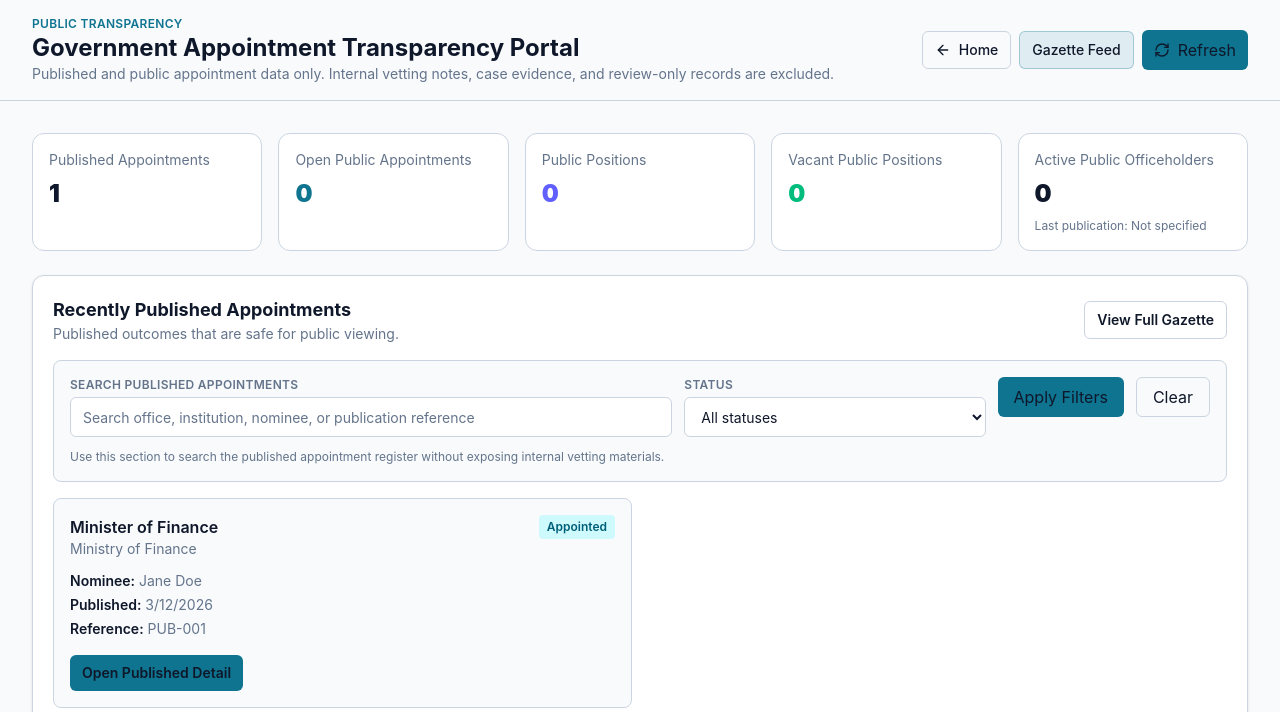
it: PublicTransparencyPage › applies published appointment filters through the public search controls
Expected: the heading "Minister of Finance" is shown, [70,515,218,539]
Replace the text in the field labelled "Search published appointments" with "finance" at (371, 417), box [70,397,672,437]
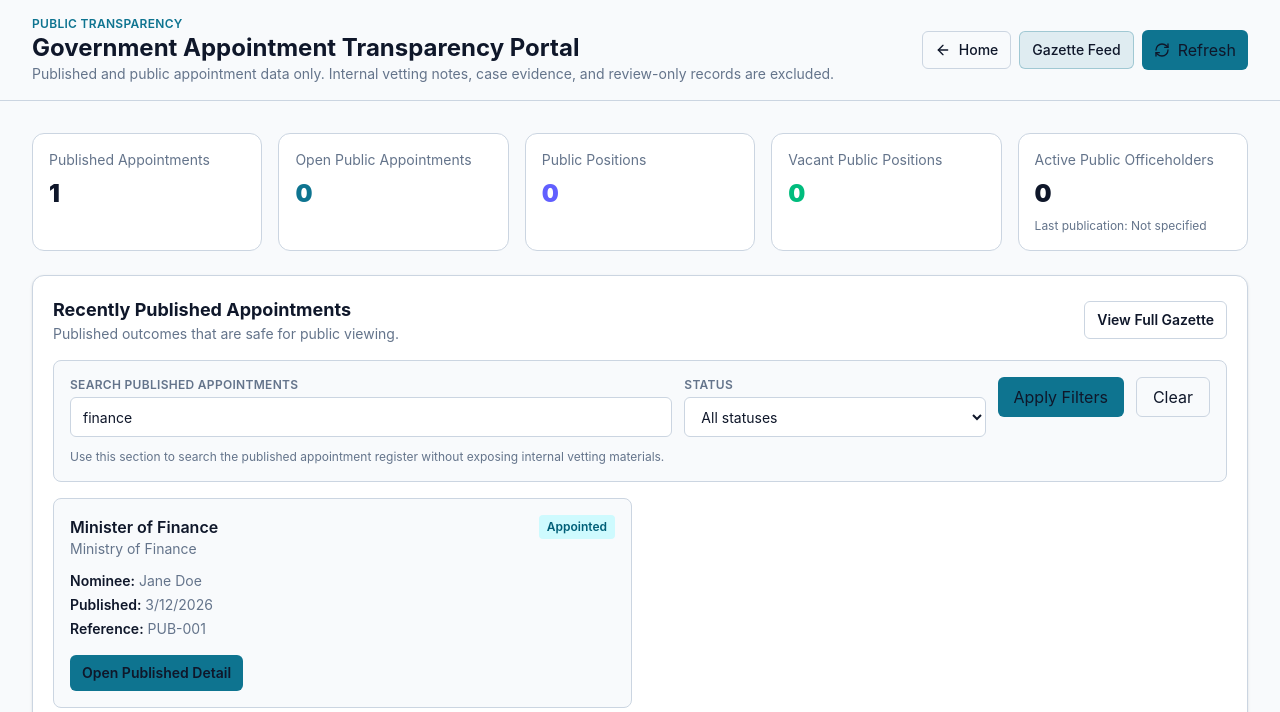
Select "Appointed" in the dropdown labelled "Status" at (835, 417), box [684,397,986,437]
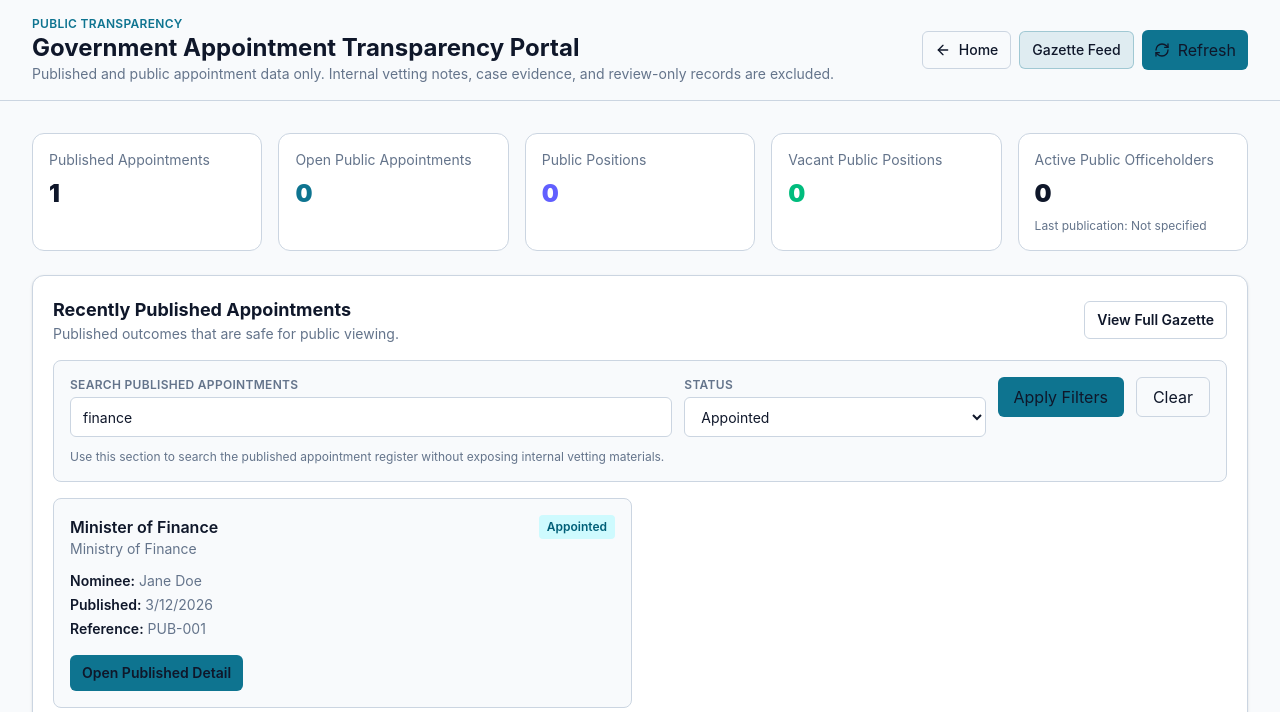
Click the button "Apply Filters" at (1061, 397), box [998,377,1124,417]
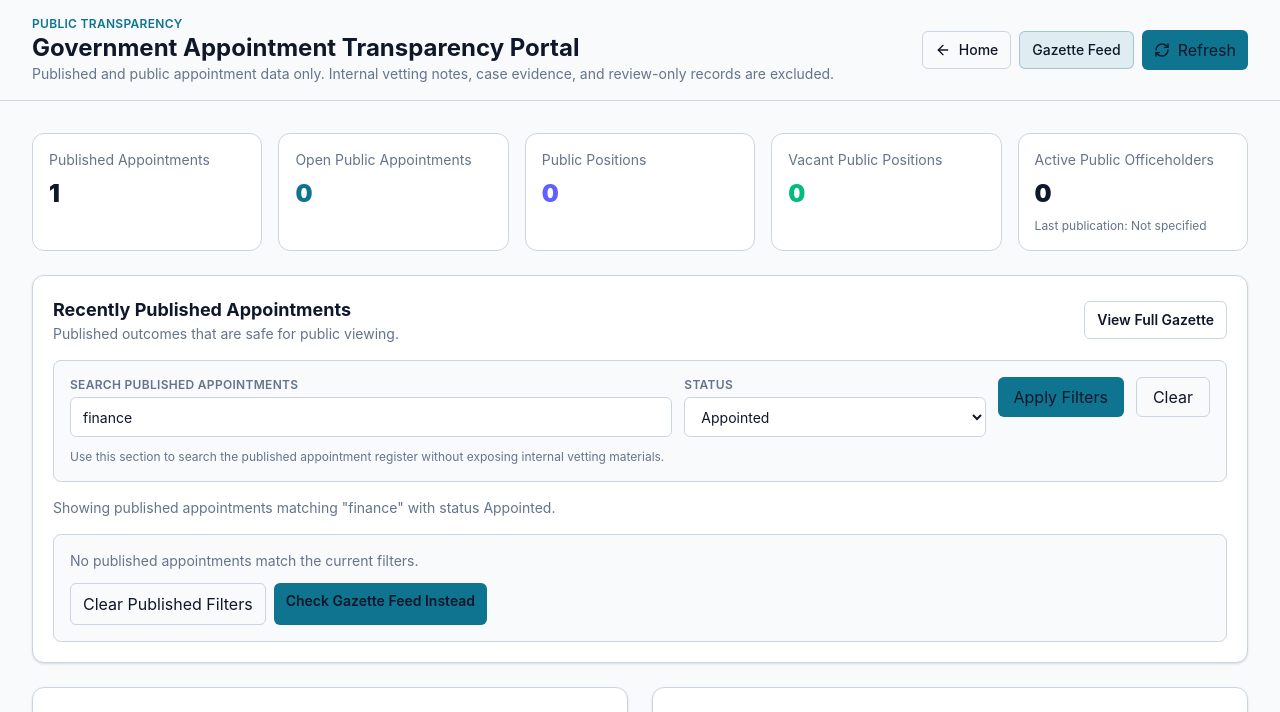
Expected: the text "Showing published appointments matching \"finance\" with status Appointed." is shown, [53,499,556,516]
Expected: the text "No published appointments match the current filters." is shown, [70,552,418,569]
